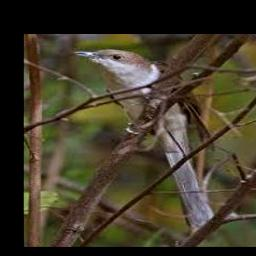Cuckoo: (76, 49, 217, 224)
